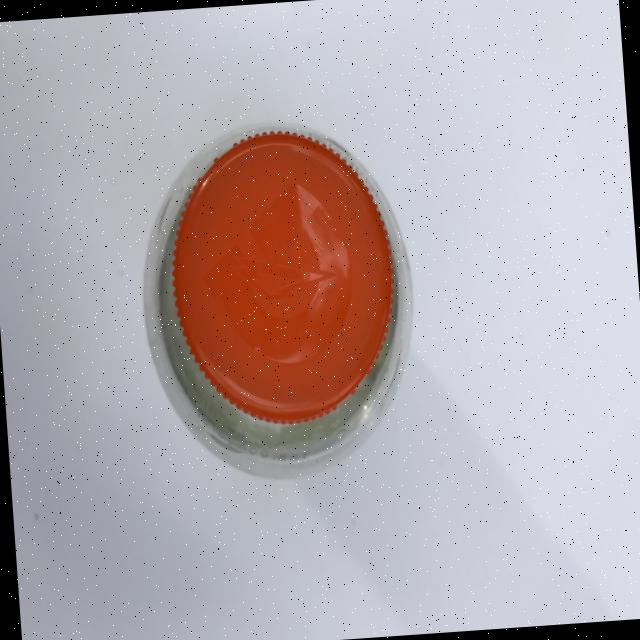plastic: (131, 115, 425, 487)
